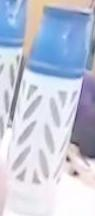cylinder: (0, 1, 95, 216)
